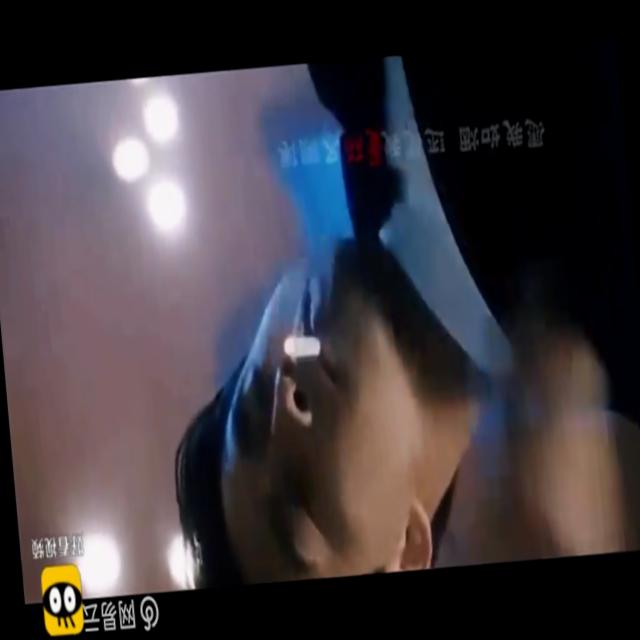smoke: (281, 328, 324, 369)
